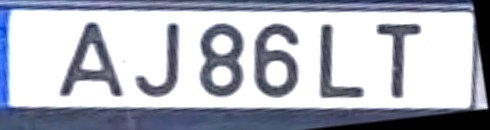6: (252, 23, 302, 102)
8: (196, 22, 247, 101)
A: (53, 21, 127, 101)
J: (133, 24, 182, 101)
L: (317, 22, 367, 99)
T: (374, 22, 424, 100)
